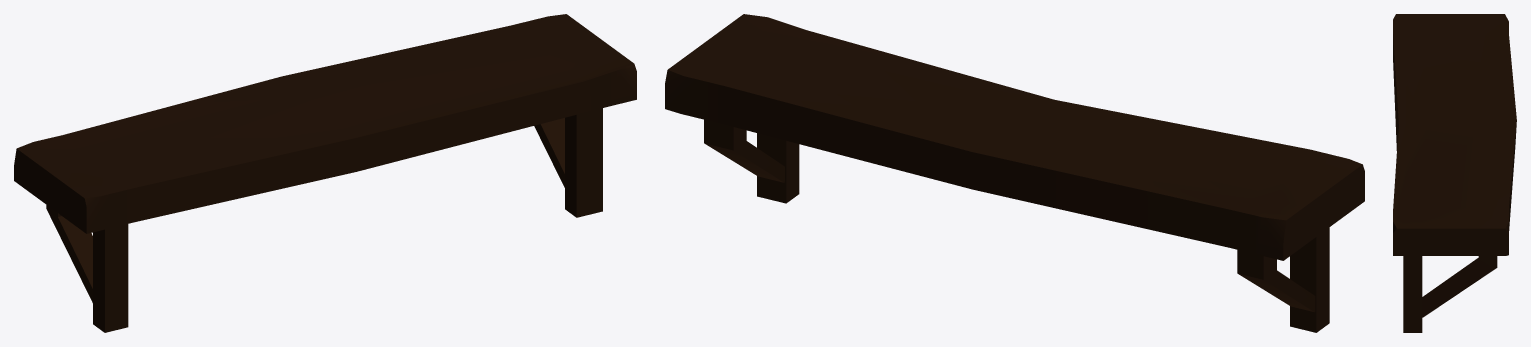
Rendered from wooden shelf.fbx.
3 views of the same model, side by side, from view 1: azimuth 30°, elevation 25°; view 2: azimuth 150°, elevation 25°; view 3: azimuth 270°, elevation 25° (orthographic). The views are drawn at different scales.
Parts seen in each view (by area): view 1: Wooden_Shelf; view 2: Wooden_Shelf; view 3: Wooden_Shelf.
Boxes of the visible parts, x1=… form: Wooden_Shelf: x1=14, y1=14, x2=636, y2=332; Wooden_Shelf: x1=665, y1=14, x2=1364, y2=332; Wooden_Shelf: x1=1393, y1=14, x2=1516, y2=332.
Bounding box in the file's own units: 340 × 85.02 × 82.88.
